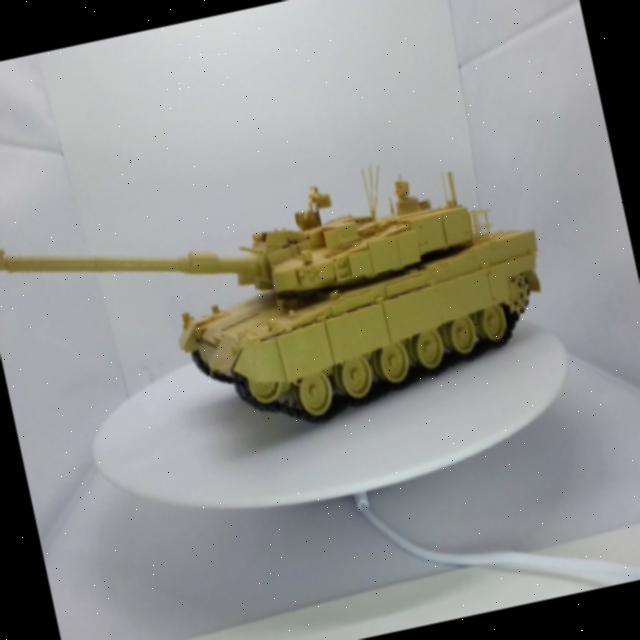korea tank: (0, 117, 600, 493)
